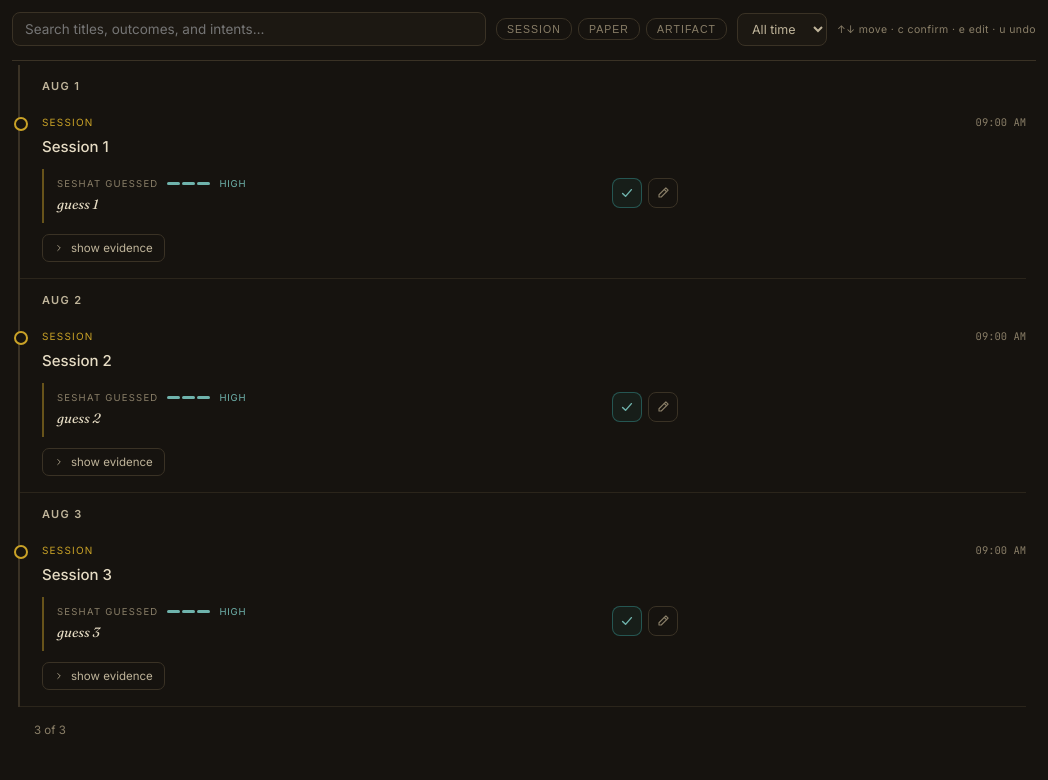
paging and filters › says nothing matches rather than claiming the project is empty
Expected: the text "Session 1" is shown, [42, 137, 109, 156]
In the field with placeholder "Search titles, outcomes, and intents…": point(249, 29) [12, 12, 486, 46], type "nothing matches this"
Wait 300 ms
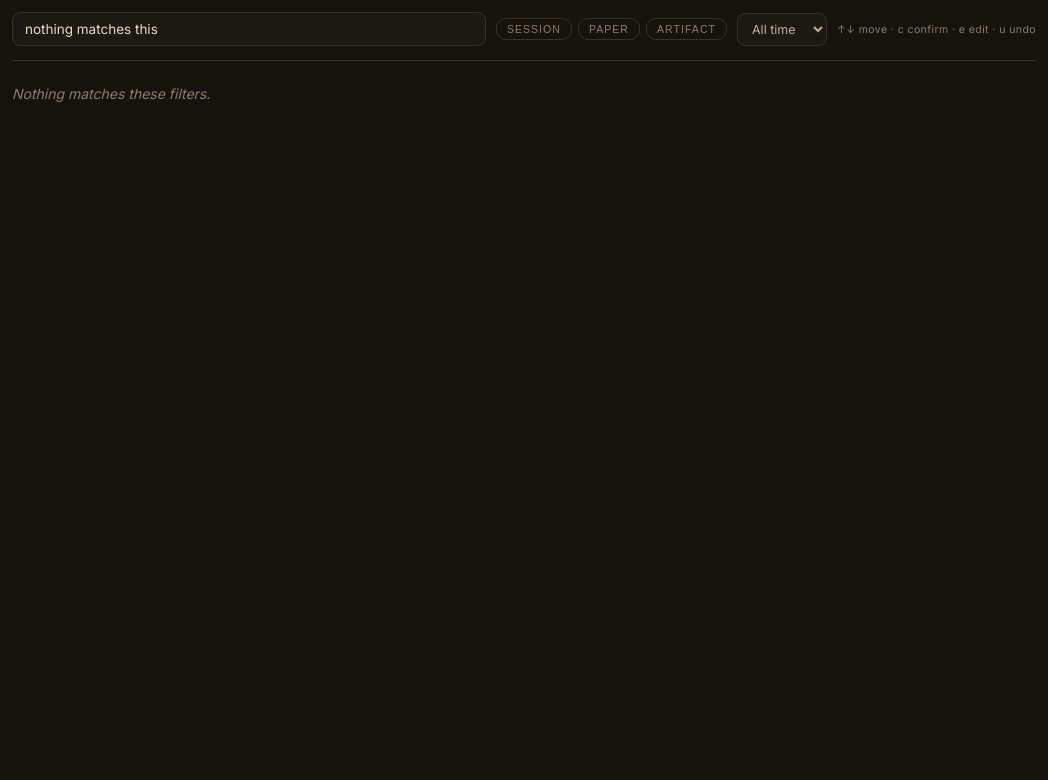
Now the text "Nothing matches these filters." is shown, box [12, 85, 210, 102]
